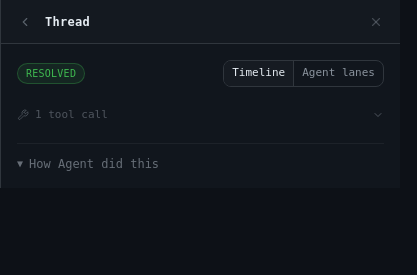
Test: ThreadDetail — consult_agent card › falls back to generic pre block for non-consultation tool results
Click the button "1 tool call" at (71, 114), box [17,102,384,127]
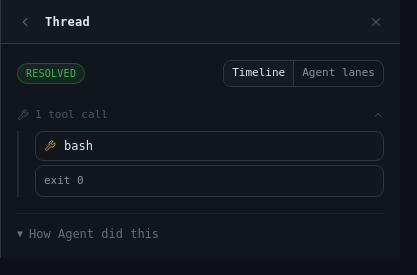
Result: the text "exit 0" is shown at [44,174,84,187]
